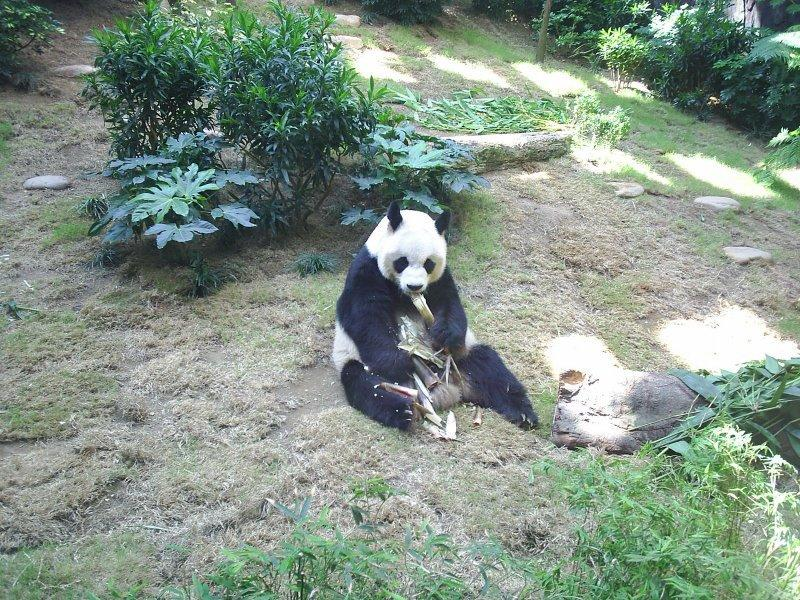panda: (332, 200, 536, 429)
